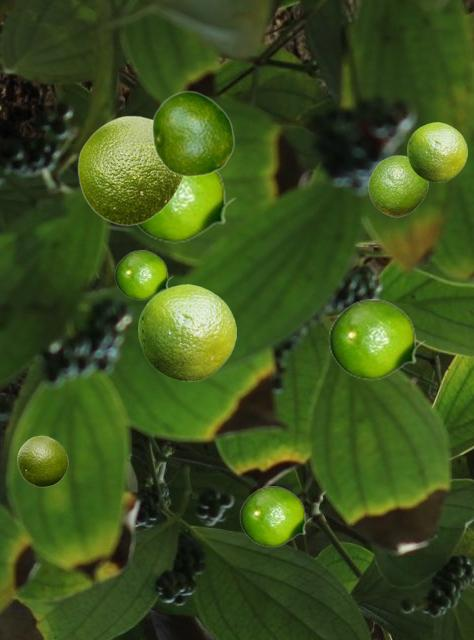calamansi: (77, 115, 184, 225), (138, 284, 235, 380), (328, 299, 425, 379), (134, 170, 236, 242), (151, 90, 234, 176), (239, 486, 312, 546), (368, 155, 427, 216), (407, 122, 466, 181), (114, 250, 173, 299), (17, 435, 67, 486)
